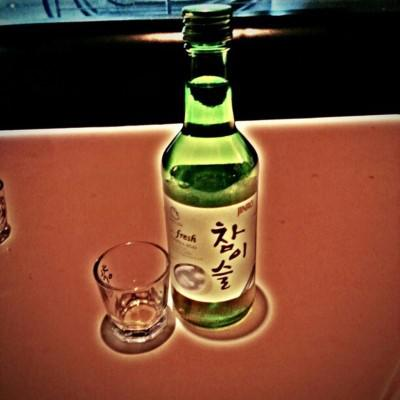soju: (159, 4, 264, 335)
